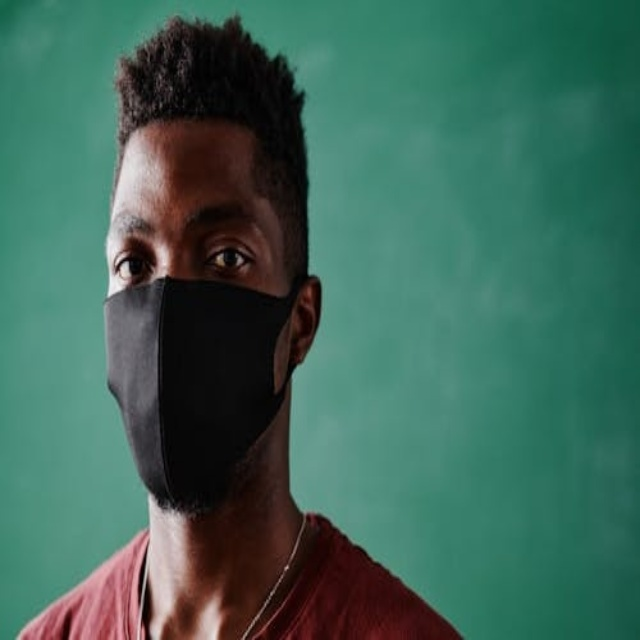Mascara: (104, 273, 304, 507)
Sin_gafas: (106, 204, 275, 284)
